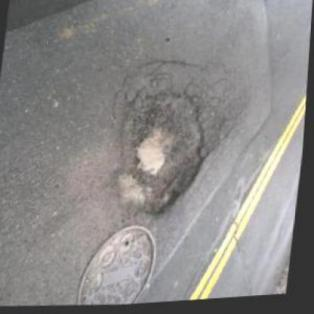Hueco: (113, 87, 217, 222)
